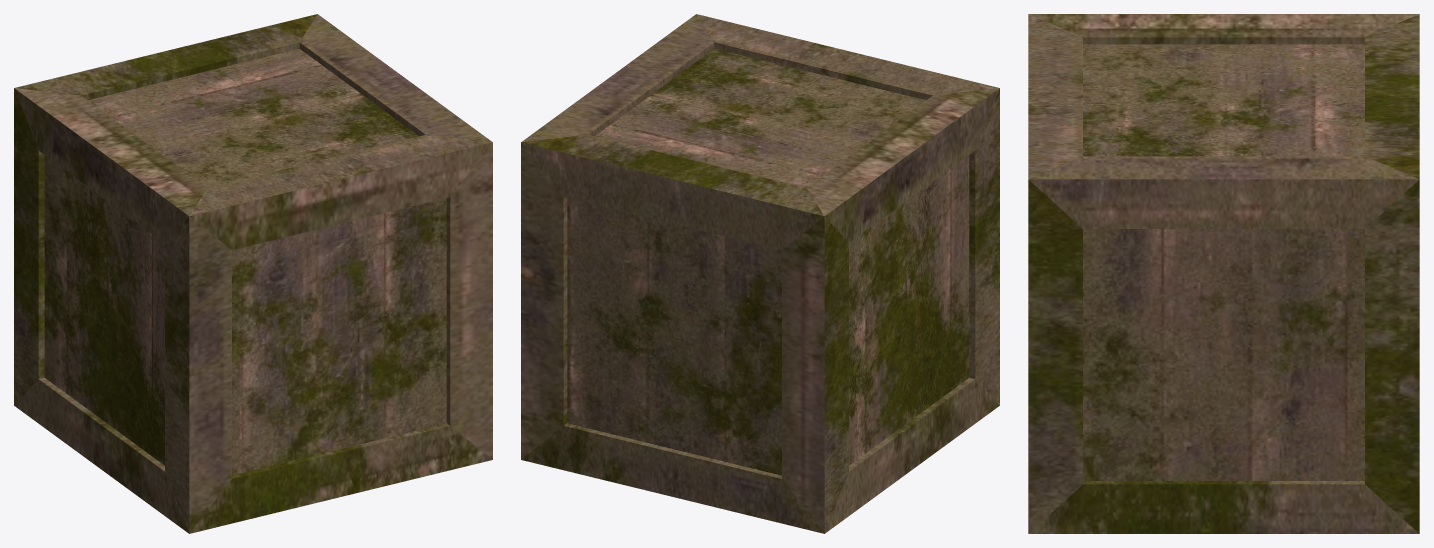
The model's file is crate_mossy.glb.
3 views of the same model, side by side, from view 1: azimuth 30°, elevation 25°; view 2: azimuth 150°, elevation 25°; view 3: azimuth 270°, elevation 25° (orthographic). The views are drawn at different scales.
Parts seen in each view (by area): view 1: crate_mossy; view 2: crate_mossy; view 3: crate_mossy.
Part boxes in pixels (bbox=[...]): crate_mossy: bbox=[14, 14, 492, 533]; crate_mossy: bbox=[521, 14, 999, 533]; crate_mossy: bbox=[1028, 14, 1419, 533].
Bounding box in the file's own units: 0.635 × 0.635 × 0.635.
Materials: 1 (1 with a texture image).
